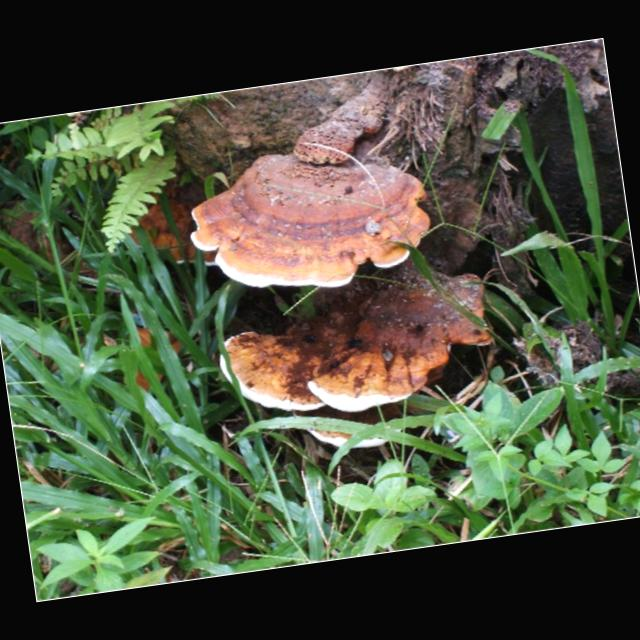ganoderma: (210, 262, 504, 435), (179, 124, 437, 308)
